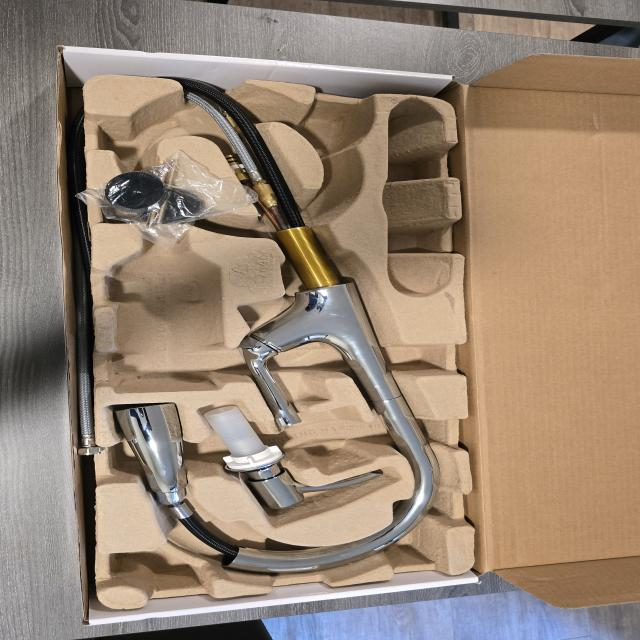1: (113, 76, 441, 574)
2: (199, 405, 381, 511)
3m: (110, 229, 224, 392)
4m: (381, 97, 448, 297)
5m: (299, 104, 365, 154)
6m: (99, 99, 181, 163)
7: (74, 148, 263, 249)
